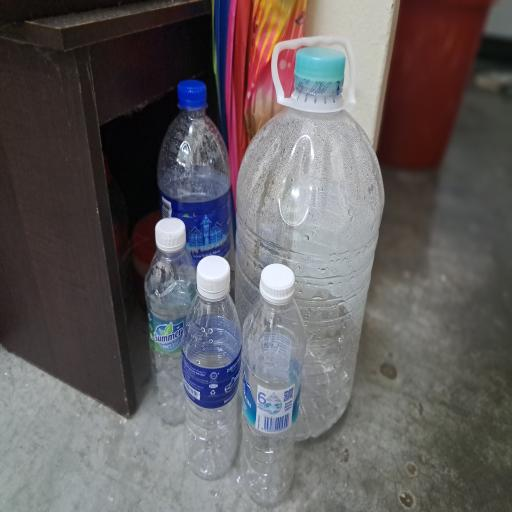plastic bottle: (234, 82, 385, 441), (240, 295, 306, 507), (158, 105, 233, 276), (182, 295, 240, 479), (143, 248, 195, 427)
plastic bottle cap: (294, 46, 346, 83), (195, 255, 230, 294), (260, 263, 295, 301), (155, 218, 186, 251), (177, 81, 208, 107)
